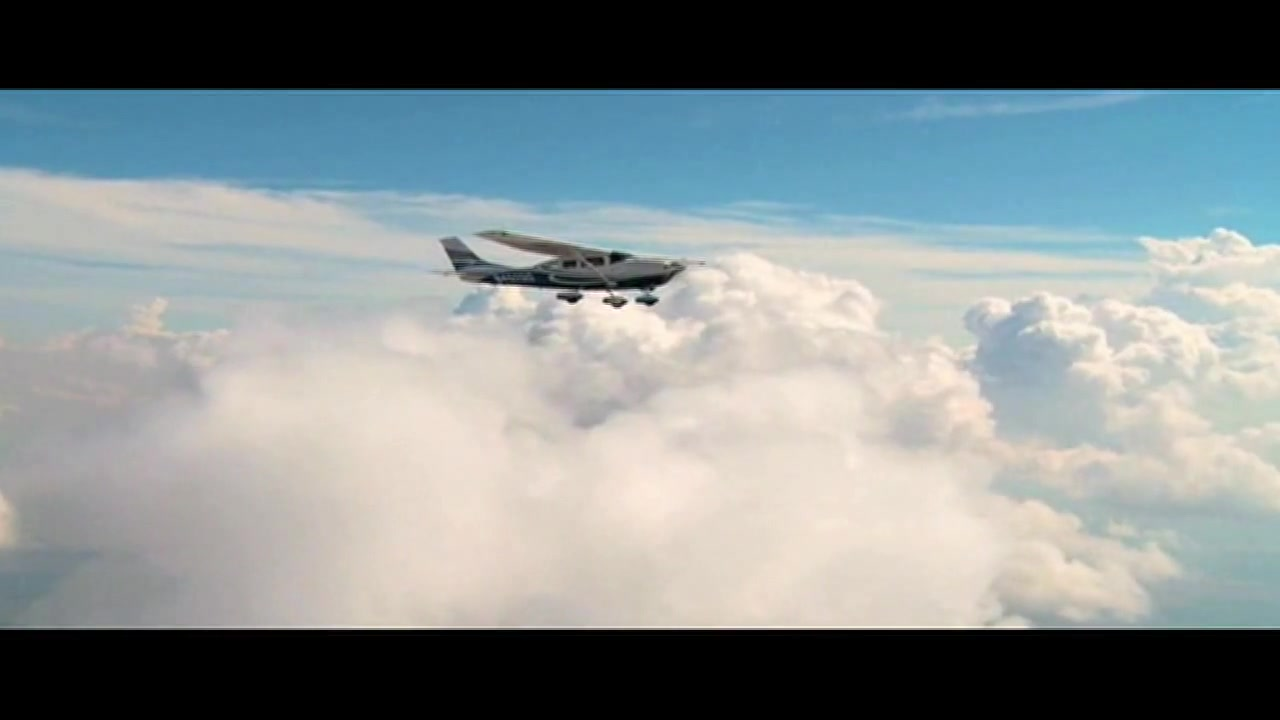aeroplane: (425, 231, 707, 311)
